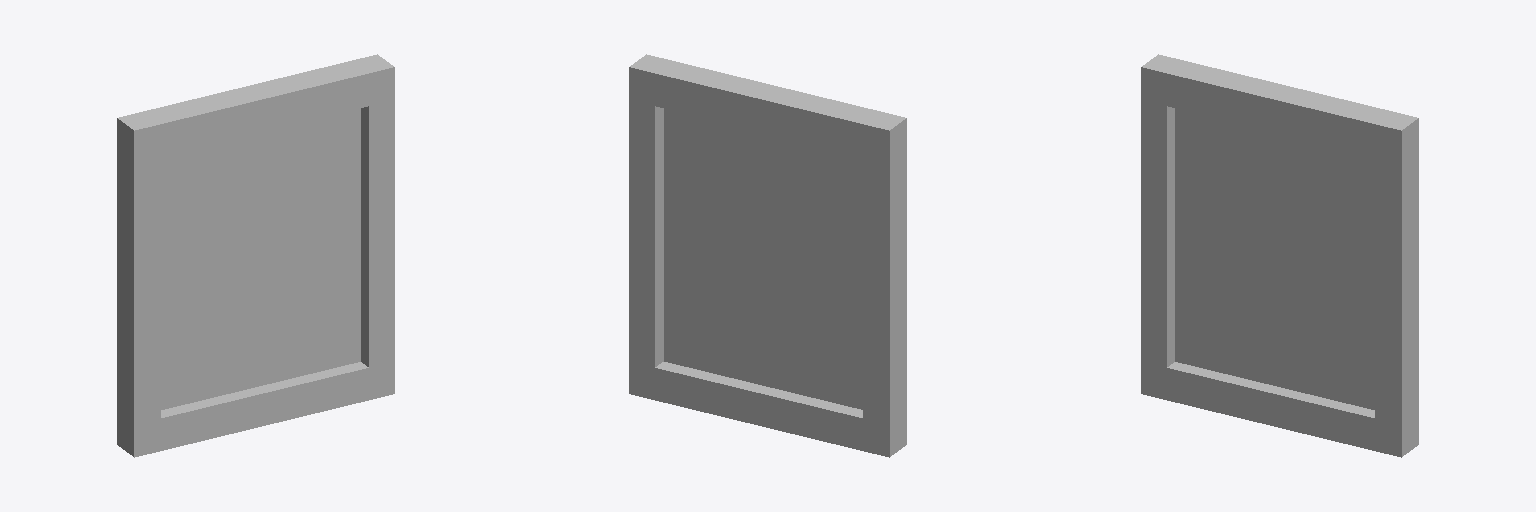
File: window.obj
The picture shows the model from 3 angles: view 1: azimuth 30°, elevation 25°; view 2: azimuth 150°, elevation 25°; view 3: azimuth 330°, elevation 25°; orthographic projection.
Parts seen in each view (by area): view 1: Cube.001; view 2: Cube.001; view 3: Cube.001.
Part boxes in pixels (bbox=[...]): Cube.001: bbox=[117, 54, 394, 457]; Cube.001: bbox=[629, 54, 906, 457]; Cube.001: bbox=[1141, 54, 1418, 457].
Bounding box in the file's own units: 1 × 1.2 × 0.1162.